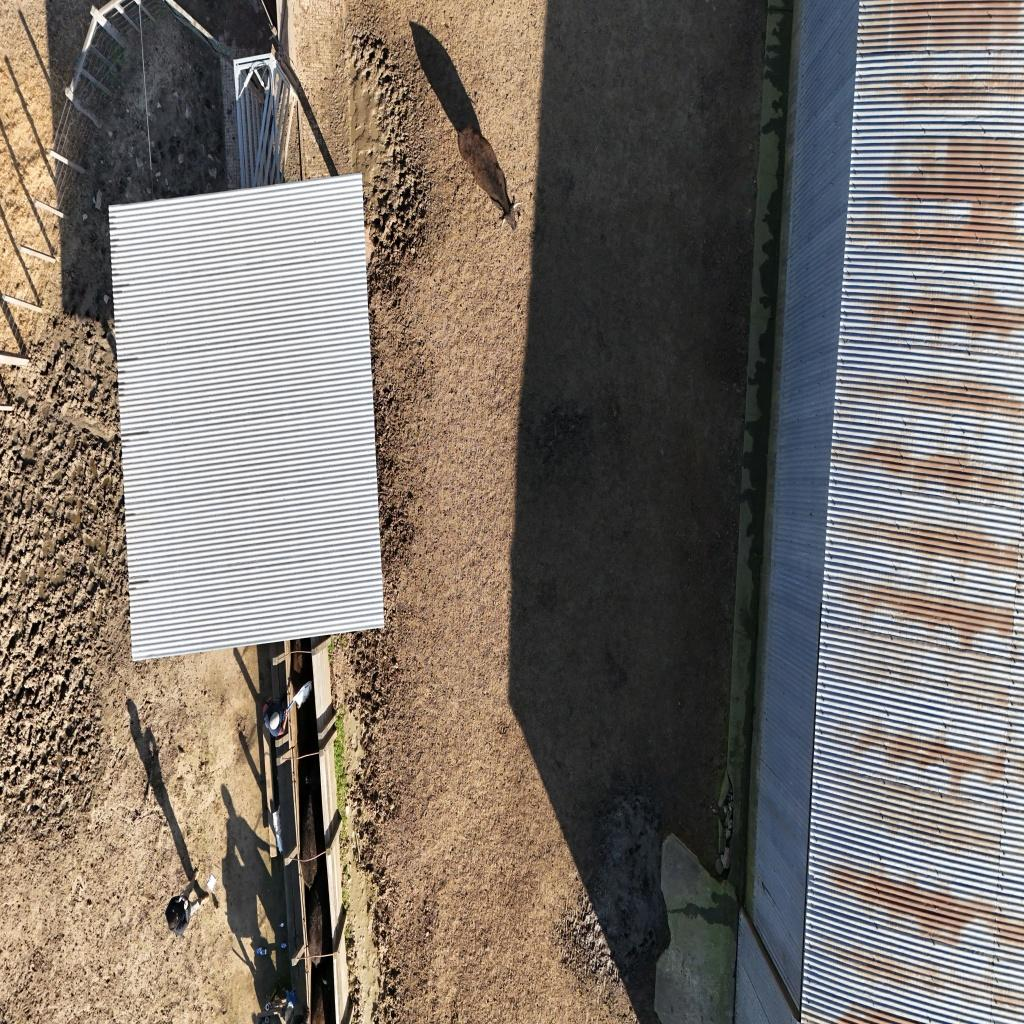cow: (457, 126, 522, 234)
